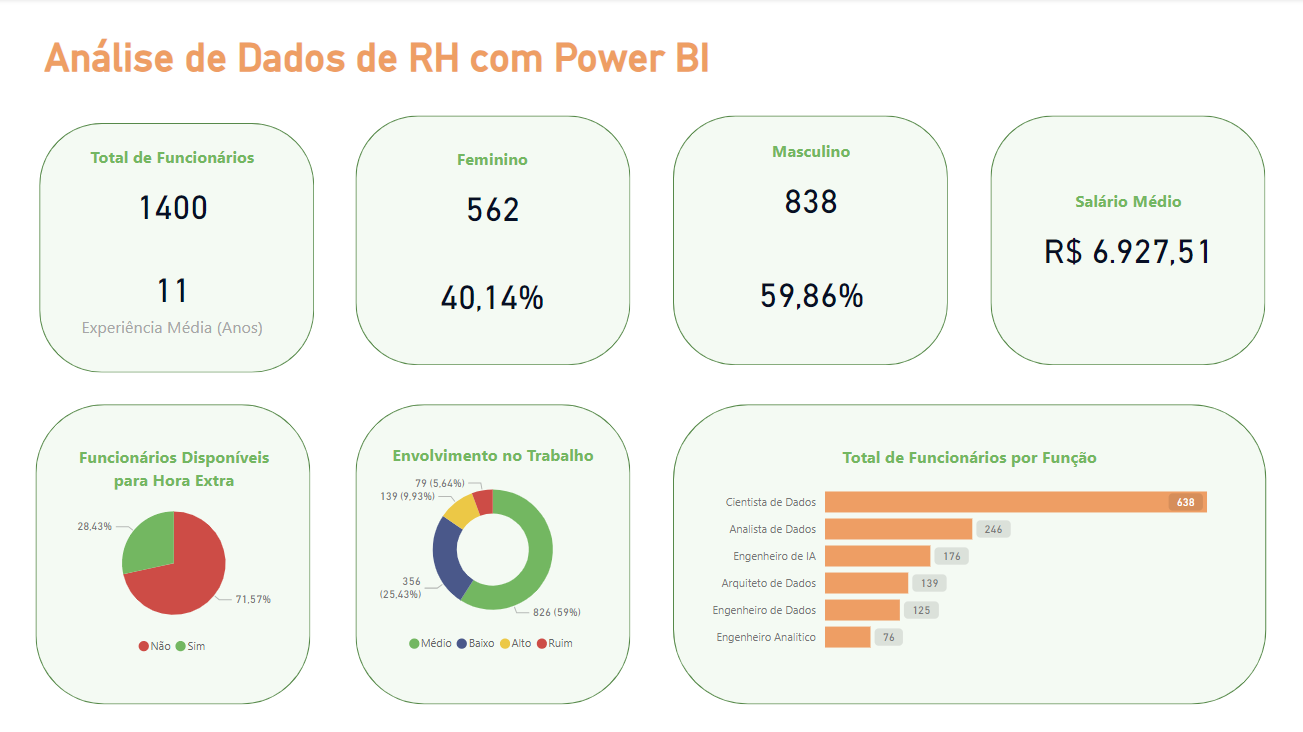

This screenshot's page, from the dashboard's own definition file:
{"tool":"powerbi","page":{"name":"RH","canvas":[1280,720],"ordinal":0},"visuals":[{"type":"shape","box":[971.3,114.9,269,244.3],"z":0},{"type":"shape","box":[660.7,115.3,269,244.3],"z":1000},{"type":"shape","box":[350.3,115.3,269,244.3],"z":2000},{"type":"shape","box":[660,397.9,580.4,293.7],"z":3000},{"type":"shape","box":[349.9,397.9,269,293.7],"z":4000},{"type":"shape","box":[36.7,397.9,269,293.7],"z":5000},{"type":"shape","box":[40,122.1,269,244.3],"z":6000},{"type":"card","title":"Total de Funcionários","fields":{"Values":["Medidas.TotalFunc"]},"box":[52.4,144.1,236,100],"z":7000},{"type":"card","title":"Feminino","fields":{"Values":["Medidas.TotalFeminino"]},"box":[366.2,145.2,236,100.2],"z":8000},{"type":"card","title":"Masculino","fields":{"Values":["Medidas.TotalMasculino"]},"box":[677.1,138.6,236,100.2],"z":9000},{"type":"card","fields":{"Values":["Medidas.% Masculino"]},"box":[677.1,238.8,236,100.2],"z":10000},{"type":"card","fields":{"Values":["Medidas.% Feminino"]},"box":[366.2,245.4,236,89.2],"z":11000},{"type":"card","title":"Salário Médio","fields":{"Values":["Medidas.SalarioMedio"]},"box":[987.7,187,236,100.2],"z":12000},{"type":"card","fields":{"Values":["Avg(DatasetRH.Anos_Experiencia)"]},"box":[52.4,244.2,236,100.2],"z":13000},{"type":"clusteredBarChart","title":"Total de Funcionários por Função","fields":{"Category":["DatasetRH.Funcao"],"Y":["Medidas.TotalFunc"]},"box":[687.5,437.7,526.9,214.1],"z":14000},{"type":"pieChart","title":"Funcionários Disponíveis para Hora Extra","fields":{"Y":["Medidas.TotalFunc"],"Category":["DatasetRH.Disponivel_Hora_Extra"]},"box":[56.3,437.7,231.9,214.1],"z":15000},{"type":"donutChart","title":"Envolvimento no Trabalho","fields":{"Y":["Medidas.TotalFunc"],"Category":["DatasetRH.Envolvimento_Trabalho"]},"box":[349.9,435,269,214.1],"z":16000},{"type":"textbox","box":[39.8,30.2,698.5,57.6],"z":17000}]}

Visuals, with their boxes in screenshot pixels (x1, y1, x2, y2), scaled from the page's 1280x720 canvas onto the 1303x732 screenshot:
shape: <region>989, 117, 1263, 365</region>
shape: <region>673, 117, 946, 366</region>
shape: <region>357, 117, 630, 366</region>
shape: <region>672, 405, 1263, 703</region>
shape: <region>356, 405, 630, 703</region>
shape: <region>37, 405, 311, 703</region>
shape: <region>41, 124, 315, 373</region>
"Total de Funcionários" card: <region>53, 147, 294, 248</region>
"Feminino" card: <region>373, 148, 613, 249</region>
"Masculino" card: <region>689, 141, 930, 243</region>
card - Medidas.% Masculino: <region>689, 243, 930, 345</region>
card - Medidas.% Feminino: <region>373, 249, 613, 340</region>
"Salário Médio" card: <region>1005, 190, 1246, 292</region>
card - Avg(DatasetRH.Anos_Experiencia): <region>53, 248, 294, 350</region>
"Total de Funcionários por Função" clusteredBarChart: <region>700, 445, 1236, 663</region>
"Funcionários Disponíveis para Hora Extra" pieChart: <region>57, 445, 293, 663</region>
"Envolvimento no Trabalho" donutChart: <region>356, 442, 630, 660</region>
textbox: <region>41, 31, 752, 89</region>
